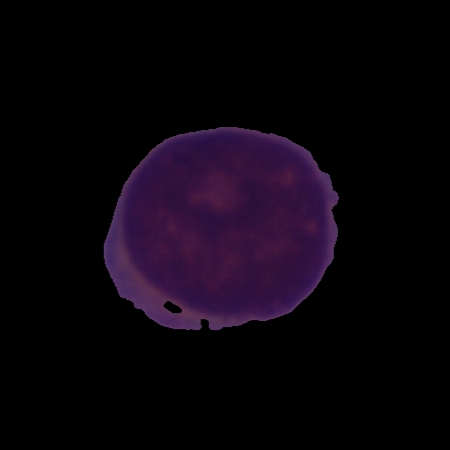ALL: (101, 123, 342, 334)
